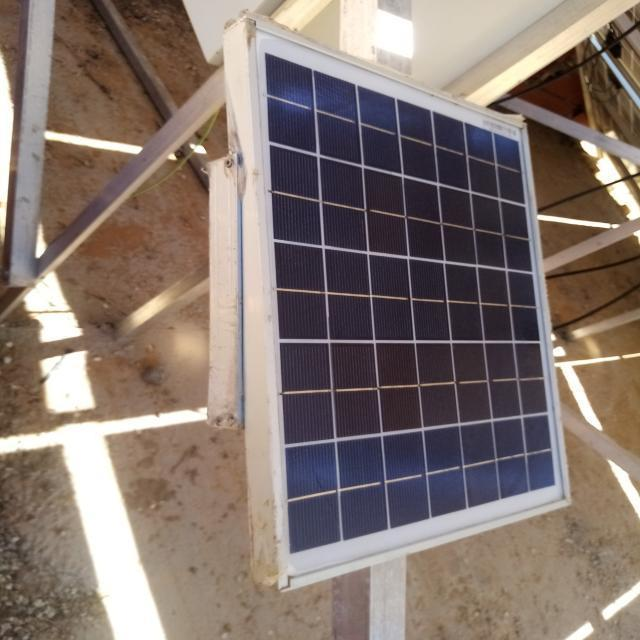Normal Solar Panel: (250, 20, 569, 586)
